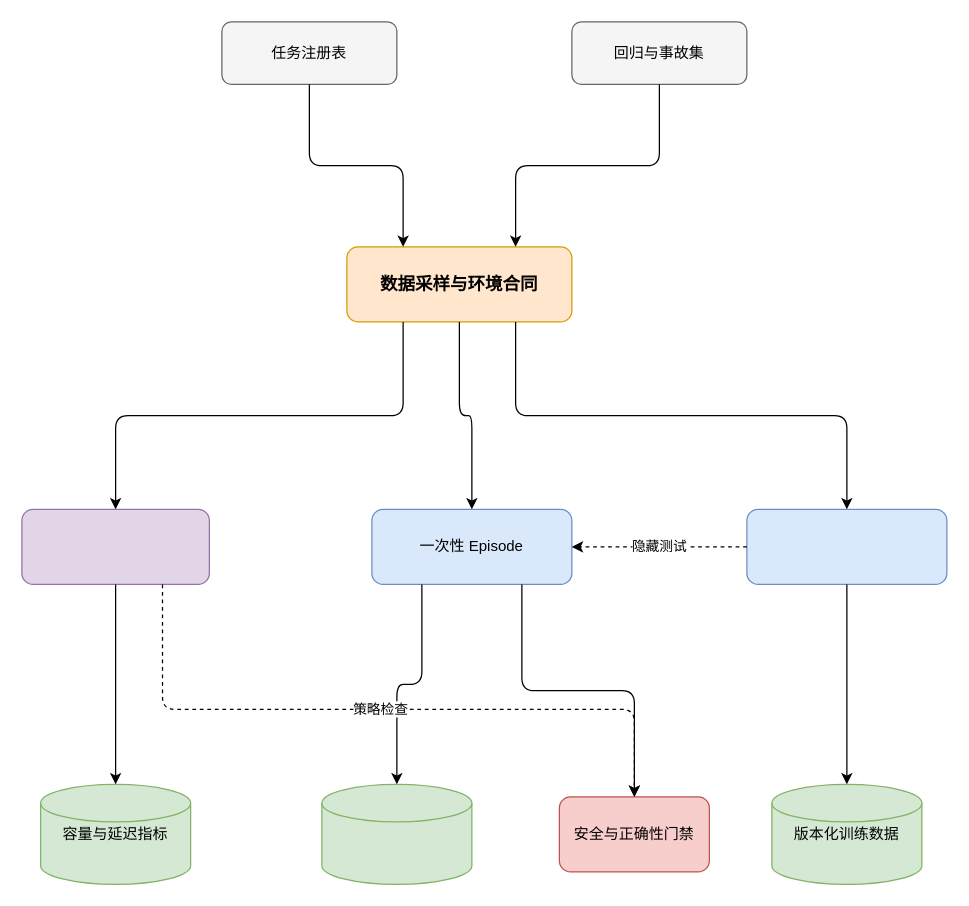
The diagram is 969 pixels wide and 906 high, and some of its shapes have lost their labels. The shapes that lost their labels are listed below. From the top down, each one's centre as x and y in pixels, then its label:
At (115,546): "沙箱控制面".
At (846,546): "隔离 Verifier".
At (396,833): "轨迹与事件仓".
